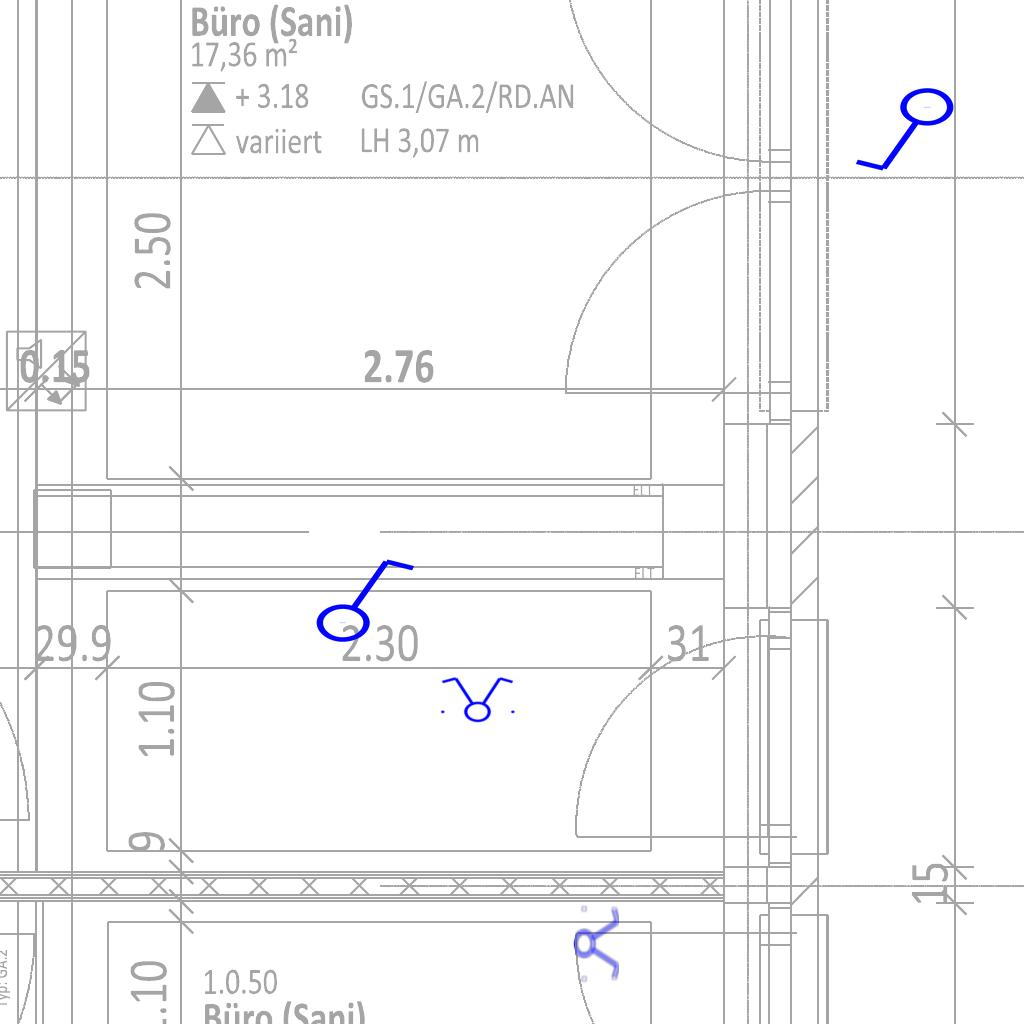Ausschalter: (853, 85, 965, 181), (305, 549, 417, 645)
Serienschalter: (435, 675, 519, 723), (573, 901, 621, 985)
